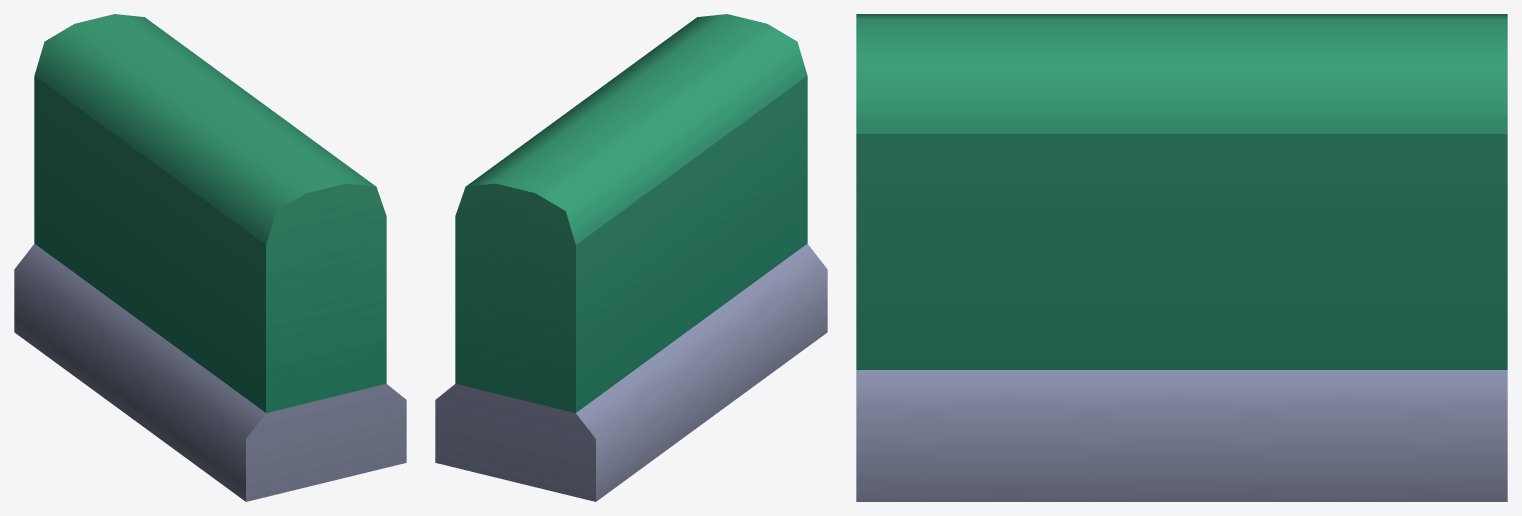
Rendered from hedgeLarge.fbx.
3 views of the same model, side by side, from view 1: azimuth 30°, elevation 25°; view 2: azimuth 150°, elevation 25°; view 3: azimuth 270°, elevation 25° (orthographic). The views are drawn at different scales.
Parts seen in each view (by area): view 1: hedgeLarge; view 2: hedgeLarge; view 3: hedgeLarge.
Part boxes in pixels (box(x1,y1,x2,y2)): hedgeLarge: box(14, 14, 406, 501); hedgeLarge: box(435, 14, 827, 501); hedgeLarge: box(856, 14, 1507, 501).
Size of the model in its own units: 0.4 by 1 by 0.7.
